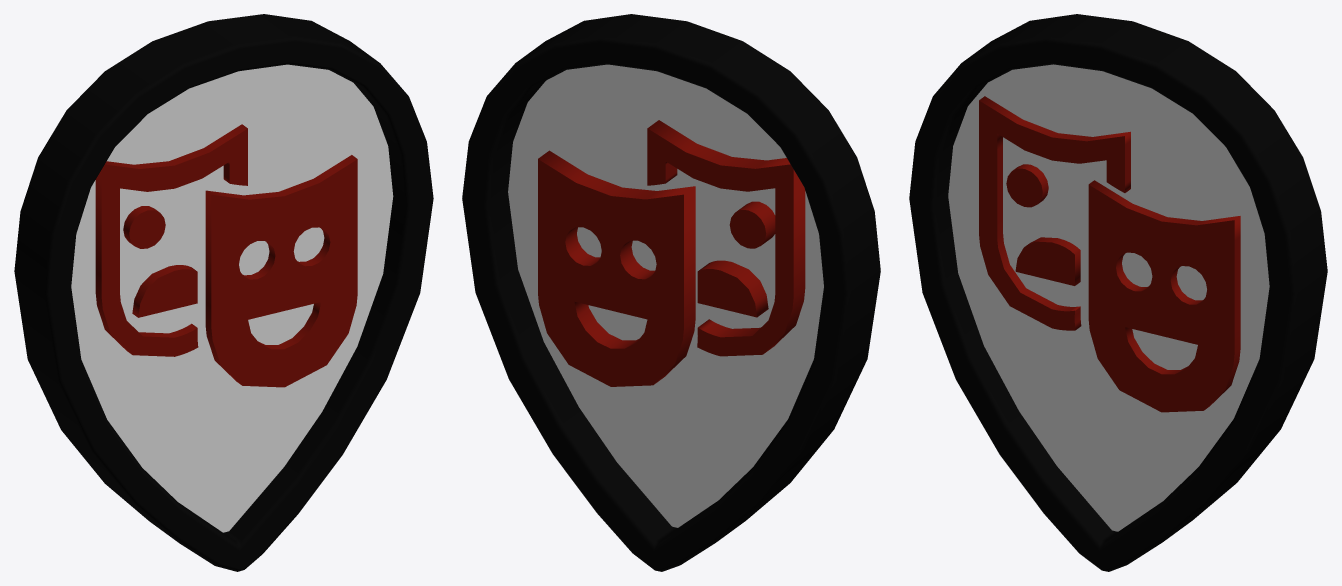
File: poiTheater.glb
3 renders of one model, left to right at view 1: azimuth 30°, elevation 25°; view 2: azimuth 150°, elevation 25°; view 3: azimuth 330°, elevation 25°, orthographic.
Parts seen in each view (by area): view 1: IconFrame, theatre; view 2: IconFrame, theatre; view 3: IconFrame, theatre.
Part boxes in pixels (left/top/right/bottom): IconFrame: left=14, top=14, right=433, bottom=571; theatre: left=95, top=124, right=357, bottom=387; IconFrame: left=462, top=14, right=880, bottom=571; theatre: left=538, top=120, right=805, bottom=386; IconFrame: left=909, top=14, right=1327, bottom=571; theatre: left=979, top=96, right=1240, bottom=412.
Size of the model in its own units: 0.3878 by 0.5033 by 0.06.
